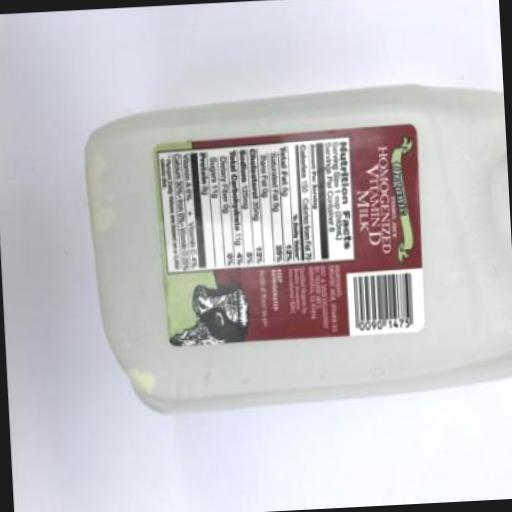plastic: (79, 80, 512, 418)
